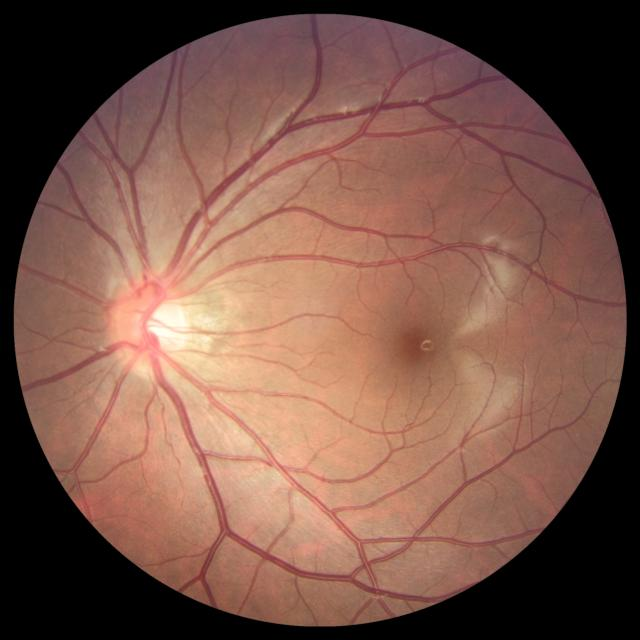OC: (140, 298, 180, 344)
OD: (112, 274, 189, 376)
